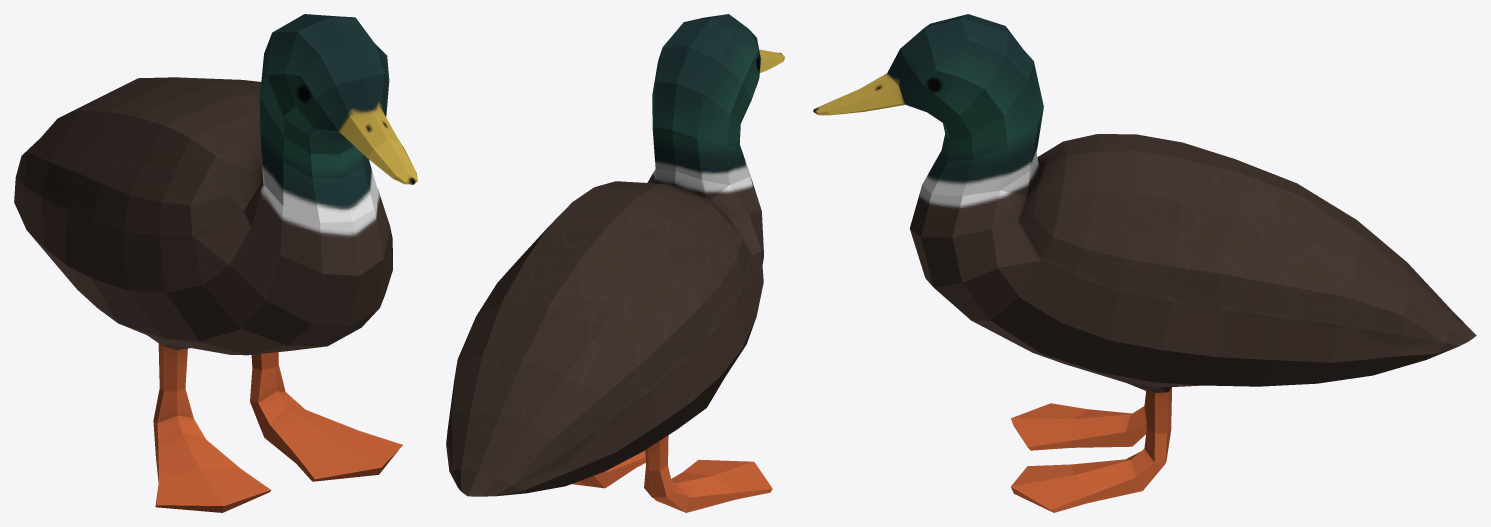
Rendered from duck.glb.
3 views of the same model, side by side, from view 1: azimuth 30°, elevation 25°; view 2: azimuth 150°, elevation 25°; view 3: azimuth 270°, elevation 25° (orthographic). The views are drawn at different scales.
Parts seen in each view (by area): view 1: duck; view 2: duck; view 3: duck.
Part boxes in pixels (x1,y1,x2,y2): duck: (14,14,417,512); duck: (446,14,784,512); duck: (813,14,1476,512).
Size of the model in its own units: 0.1995 by 0.38 by 0.5177.
Materials: 1 (1 with a texture image).
